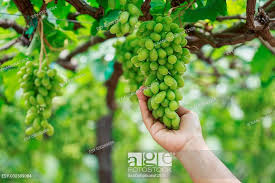grapes: (133, 20, 189, 130), (22, 59, 66, 146)
